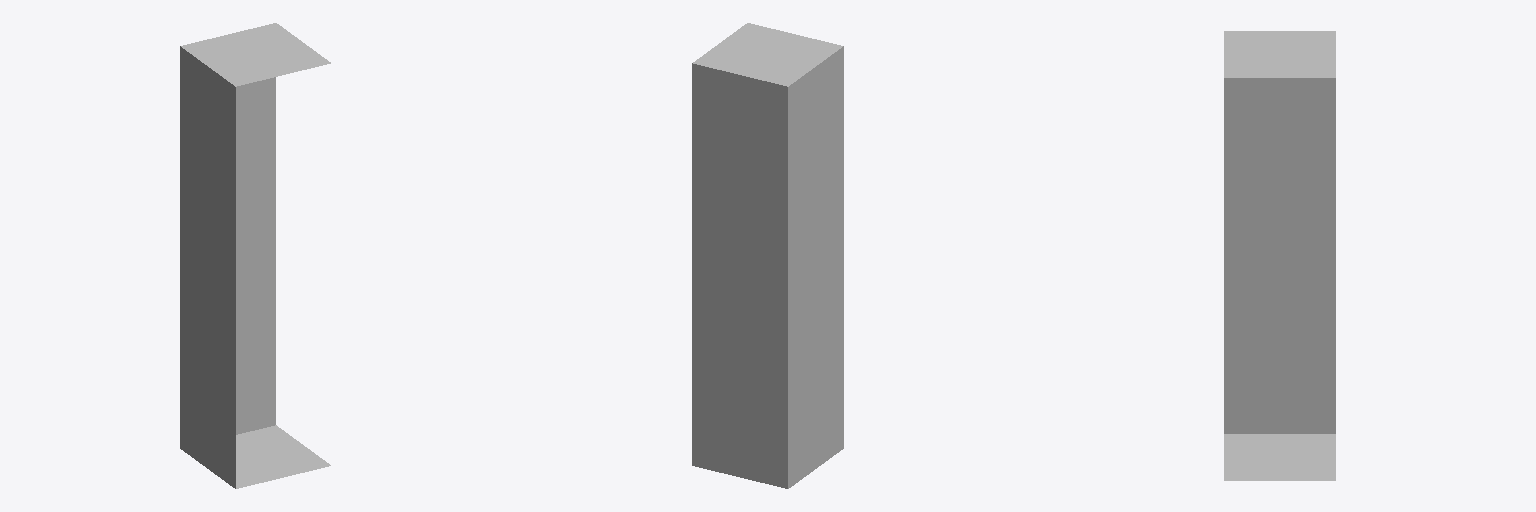
File: tower_block01_trunk_corner.obj
3 renders of one model, left to right at view 1: azimuth 30°, elevation 25°; view 2: azimuth 150°, elevation 25°; view 3: azimuth 270°, elevation 25°, orthographic.
Visible parts, largest first — view 1: tower_block_01_trunk_01_corner; view 2: tower_block_01_trunk_01_corner; view 3: tower_block_01_trunk_01_corner.
Boxes of the visible parts, x1,y1,x2,y2 form: tower_block_01_trunk_01_corner: [180, 23, 330, 488]; tower_block_01_trunk_01_corner: [692, 23, 843, 488]; tower_block_01_trunk_01_corner: [1224, 31, 1335, 480].
Size of the model in its own units: 1 by 4 by 1.